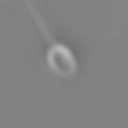normal: (25, 1, 54, 43)
